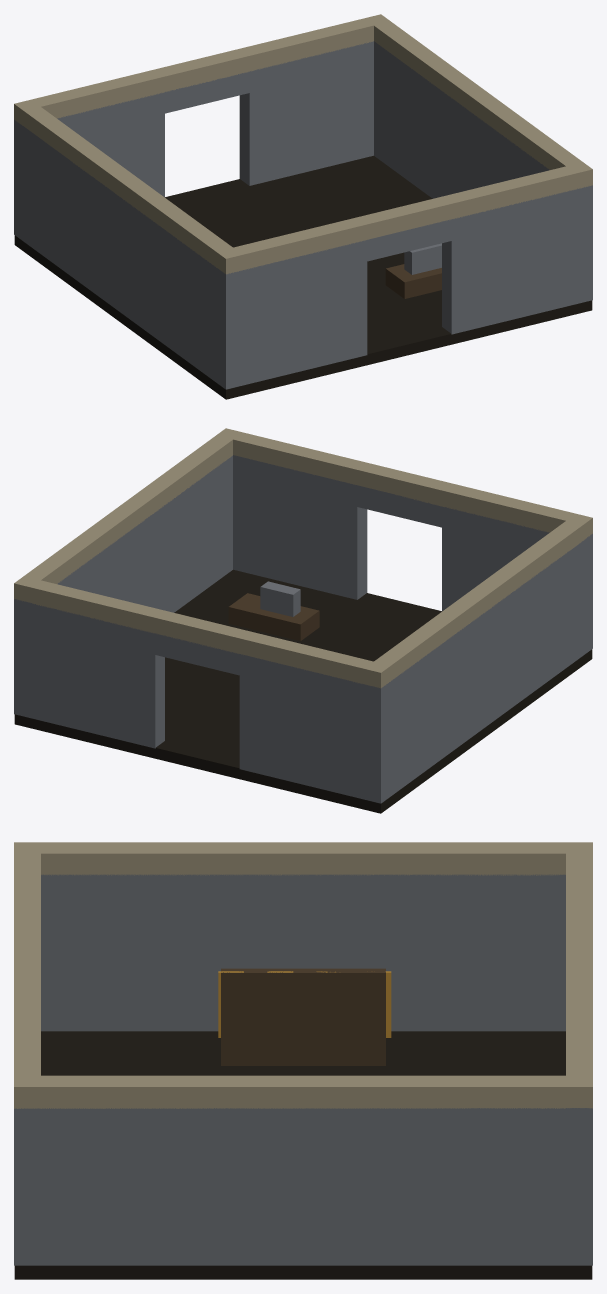
The model's file is GuardRoomInner.fbx.
3 views of the same model, one above another, from view 1: azimuth 30°, elevation 25°; view 2: azimuth 150°, elevation 25°; view 3: azimuth 270°, elevation 25° (orthographic). The views are drawn at different scales.
Visible parts, largest first — view 1: GuardRoomInner; view 2: GuardRoomInner; view 3: GuardRoomInner.
Part boxes in pixels (box(x1,y1,x2,y2)): GuardRoomInner: box(14, 14, 592, 399); GuardRoomInner: box(14, 428, 592, 813); GuardRoomInner: box(14, 842, 592, 1279).
Size of the model in its own units: 1122 by 412 by 1122.
5 materials, 5 textured.
